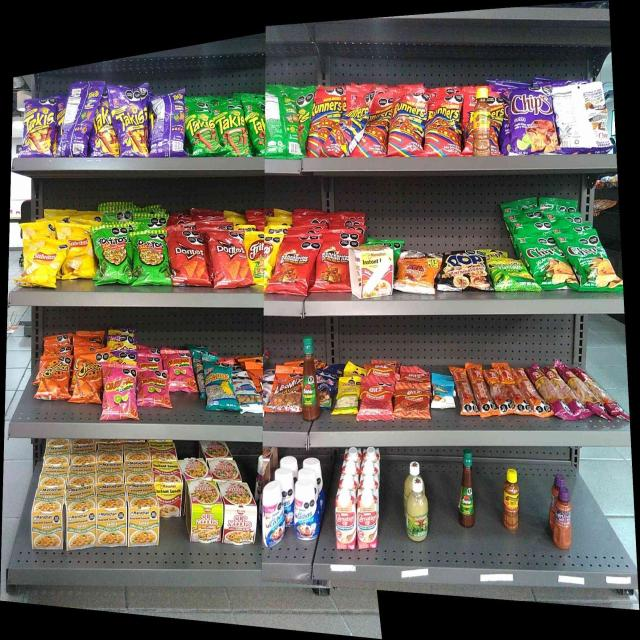bitzAlmendras: (432, 374, 453, 409)
bitzEnchilado90: (396, 380, 430, 419), (362, 376, 391, 418)
bitzEnchilado95: (455, 368, 533, 420)
bitzHabanero: (543, 366, 611, 421)
bokadosCacahuates: (318, 369, 333, 408)
botaneraChilito: (500, 467, 520, 530), (474, 87, 489, 156)
cheetosOriginal: (41, 356, 70, 400), (78, 355, 101, 404)
chipsFuego: (510, 86, 549, 156)
chipsJalapeno: (569, 241, 607, 291), (530, 247, 566, 290)
chipsPapatinas: (495, 256, 529, 294)
churrumais: (102, 362, 137, 421), (138, 368, 167, 411), (169, 348, 191, 394)
delPrimoSalsa: (406, 479, 430, 543)
doritosNacho: (210, 233, 246, 288), (170, 235, 206, 288)
fritosLimon: (250, 233, 272, 279)
hotNutsOriginal: (401, 252, 435, 296)
leoCacahuates: (237, 378, 260, 414)
leoMix: (272, 362, 302, 414)
maruchanPollo: (128, 483, 158, 548), (32, 488, 63, 550), (66, 486, 96, 550), (98, 484, 126, 547)
maruchanRes: (350, 246, 394, 300), (160, 462, 182, 520)
nestleCarnation: (358, 488, 380, 550), (335, 489, 357, 550)
nestleLechera: (294, 479, 318, 541), (260, 486, 284, 547)
nissinCamaron: (188, 481, 219, 544)
nissinRes: (224, 481, 256, 546)
popKarameladas: (444, 251, 484, 290)
productoAtras: (558, 81, 606, 154), (151, 94, 184, 156), (152, 96, 184, 159), (66, 84, 92, 157), (266, 97, 294, 160)
rancheritos: (281, 244, 309, 296), (318, 246, 346, 293)
runners: (428, 99, 461, 155), (394, 95, 424, 156), (366, 104, 391, 158), (326, 121, 362, 158), (313, 88, 341, 118)
sabritasOriginal: (60, 228, 91, 278), (29, 242, 57, 288)
salsaBufalo: (459, 447, 476, 529), (302, 337, 316, 421)
semillasCalabaza: (338, 376, 357, 413)
semillasGirasol: (202, 357, 233, 413)
tajinDulce: (553, 490, 574, 549)
takisFuego: (116, 85, 149, 156), (23, 98, 54, 156), (95, 108, 114, 156)
takisOriginal: (187, 112, 215, 157), (218, 112, 245, 157)
tostitos: (96, 226, 128, 286), (134, 232, 165, 285)
